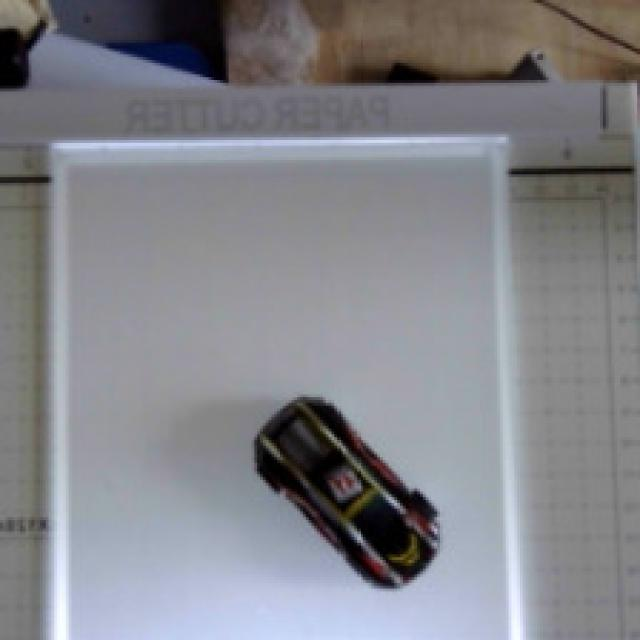Red Car: (201, 342, 486, 622)
